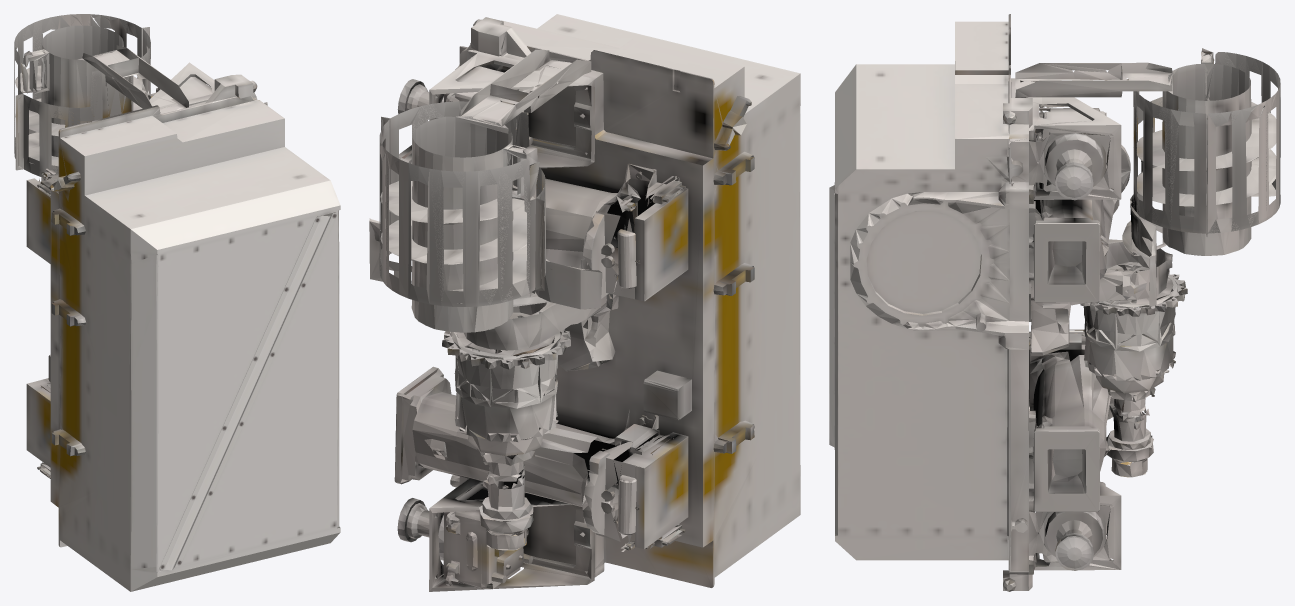
File: rsm_el.obj
3 renders of one model, left to right at view 1: azimuth 30°, elevation 25°; view 2: azimuth 150°, elevation 25°; view 3: azimuth 270°, elevation 25°, orthographic. The views are drawn at different scales.
Bounding box in the file's own units: 0.3037 × 0.5494 × 0.468.
1 material, 1 textured.
